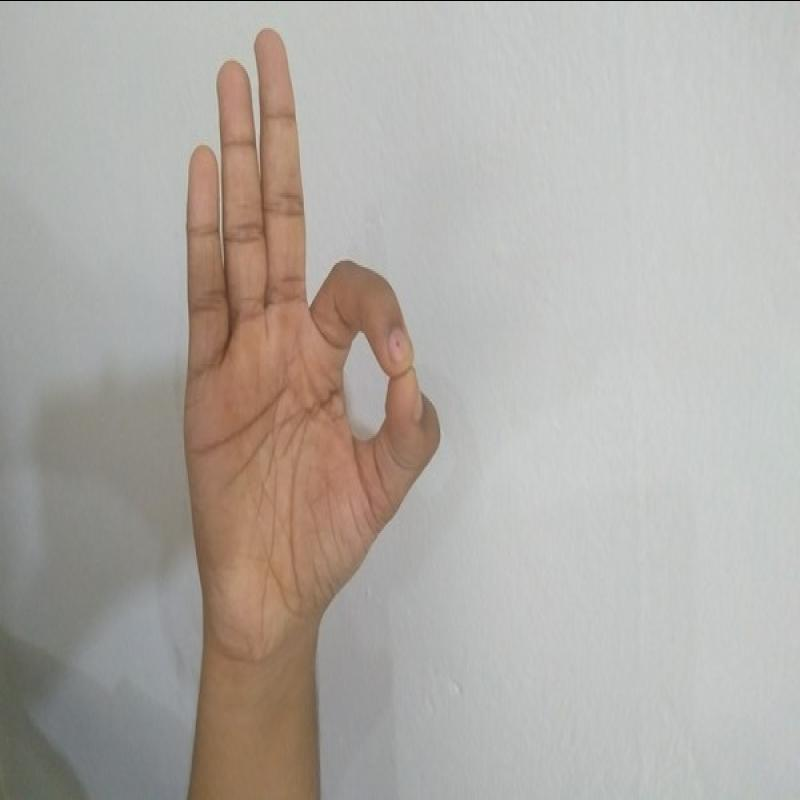Mudraakhyam: (162, 21, 449, 694)
